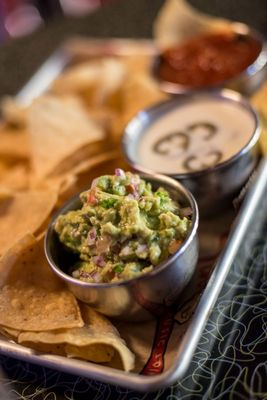sushi: (42, 166, 200, 322), (120, 89, 263, 218)
